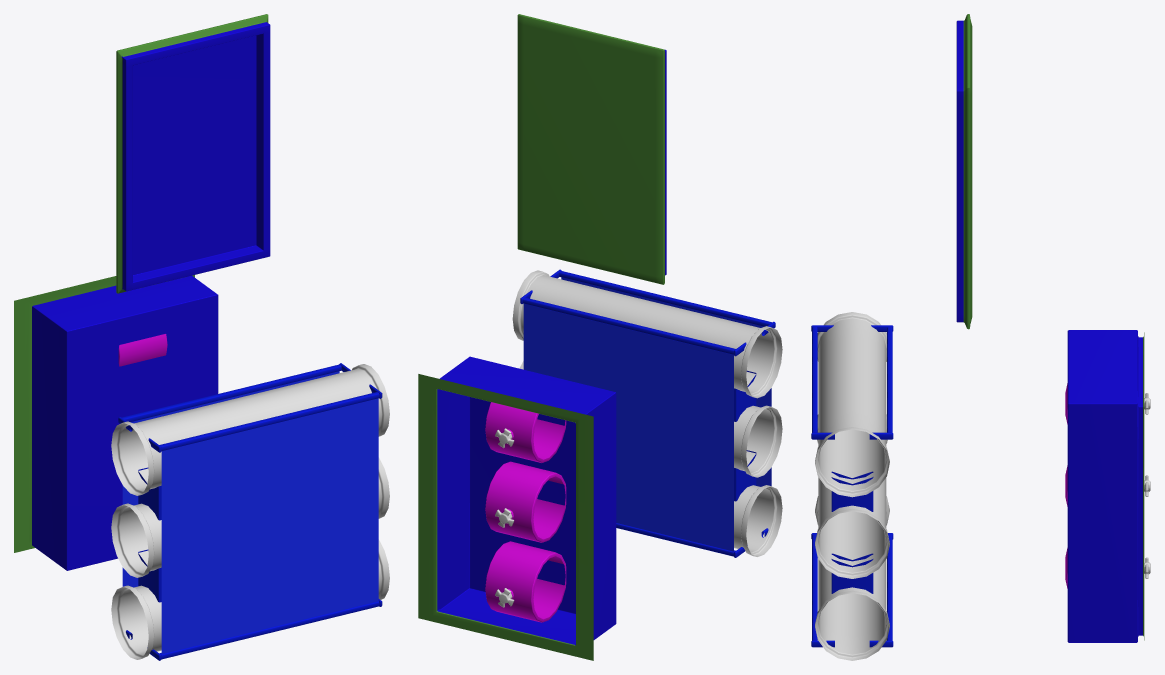
Rendered from HighPressurePipes.fbx.
3 renders of one model, left to right at view 1: azimuth 30°, elevation 25°; view 2: azimuth 150°, elevation 25°; view 3: azimuth 270°, elevation 25°, orthographic. The views are drawn at different scales.
Parts seen in each view (by area): view 1: SplinePipes, WallValves, Cover; view 2: WallValves, SplinePipes, Cover; view 3: SplinePipes, WallValves, Cover.
Part boxes in pixels (x1,y1,x2,y2): SplinePipes: [111, 363, 389, 660]; WallValves: [14, 275, 218, 570]; Cover: [116, 14, 270, 293]; WallValves: [418, 356, 616, 660]; SplinePipes: [512, 269, 782, 557]; Cover: [517, 14, 666, 284]; SplinePipes: [811, 312, 893, 660]; WallValves: [1065, 330, 1150, 642]; Cover: [956, 14, 972, 329].
Size of the model in its own units: 400 by 892 by 488.
3 materials, 1 textured.
